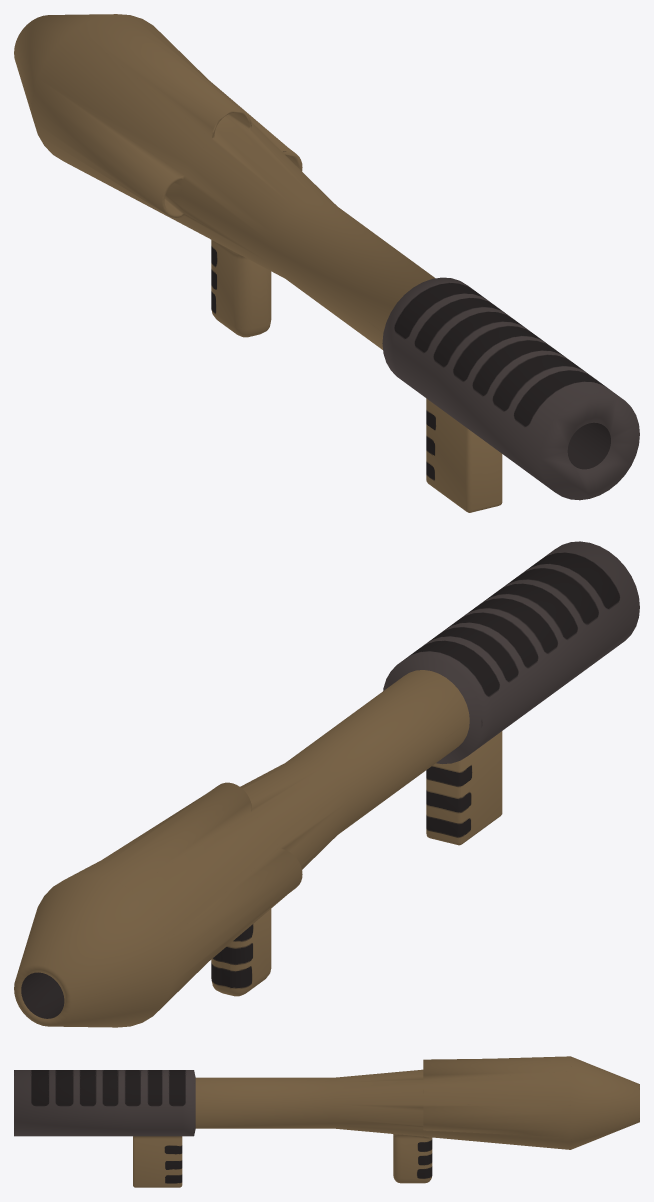
File: rpg1.glb
3 views of the same model, one above another, from view 1: azimuth 30°, elevation 25°; view 2: azimuth 150°, elevation 25°; view 3: azimuth 270°, elevation 25° (orthographic). The views are drawn at different scales.
Parts seen in each view (by area): view 1: Cylinder; view 2: Cylinder; view 3: Cylinder.
Boxes of the visible parts, left/top/right/bottom form: Cylinder: left=14, top=14, right=639, bottom=512; Cylinder: left=14, top=541, right=639, bottom=1027; Cylinder: left=14, top=1056, right=639, bottom=1187.
Size of the model in its own units: 3.67 by 5.3 by 24.52.
1 material, 1 textured.
